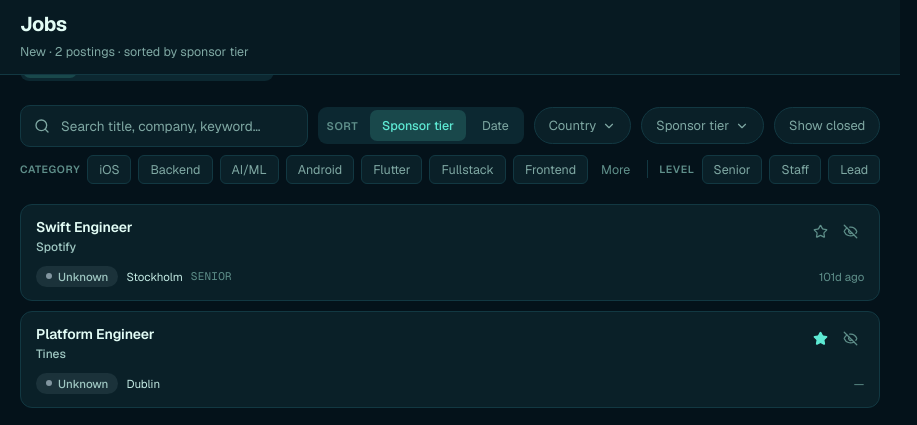
JobsPane › offers all five sponsor tiers in the filter, none pre-selected
Expected: the text "Swift Engineer" is shown, [36, 218, 132, 236]
Click the button with aria-label "filter by sponsor tier" at (703, 126), box [641, 107, 764, 144]
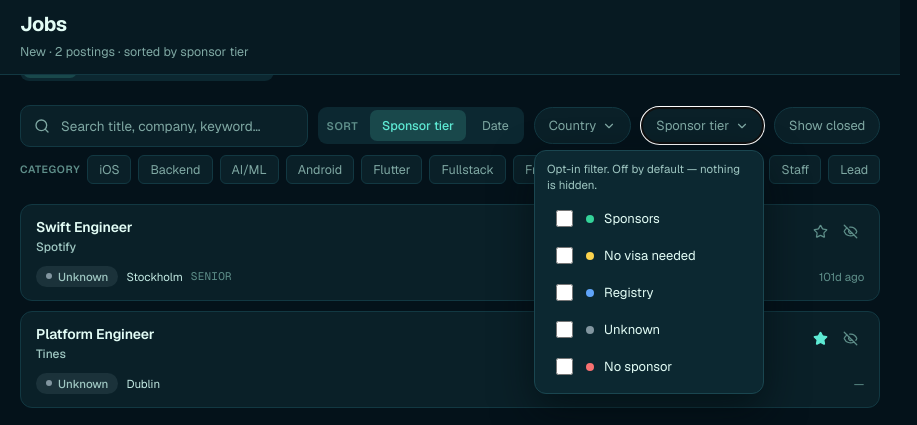
Result: the number of checkboxes is 5 at [556, 210, 573, 227]; [556, 247, 573, 264]; [556, 284, 573, 301]; [556, 321, 573, 338]; [556, 358, 573, 375]
Result: the checkbox labelled "No visa needed" is shown at [556, 247, 573, 264]
